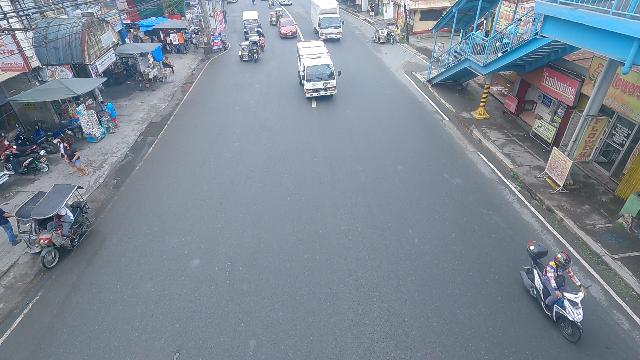car: (277, 17, 298, 39)
jeepney: (241, 10, 262, 40)
motorcycle: (520, 241, 590, 345), (268, 0, 274, 8)
truck: (310, 0, 347, 43)
van: (294, 39, 342, 100)
